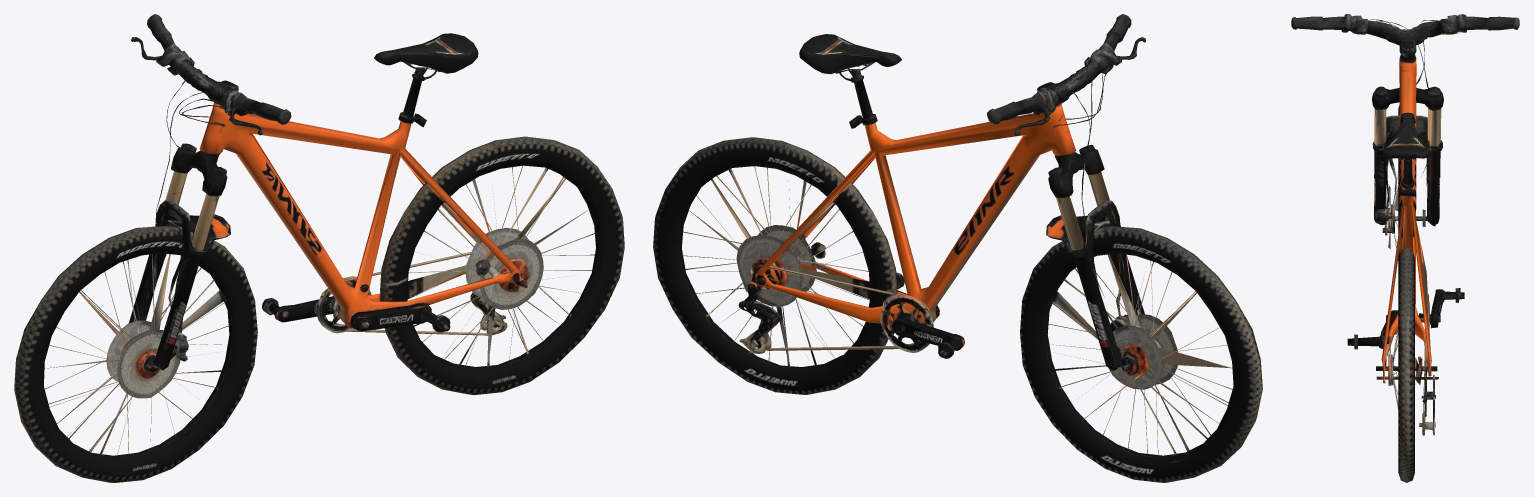
Rendered from bike-body.glb.
3 views of the same model, side by side, from view 1: azimuth 30°, elevation 25°; view 2: azimuth 150°, elevation 25°; view 3: azimuth 270°, elevation 25° (orthographic). The views are drawn at different scales.
Size of the model in its own units: 0.9575 by 0.5991 by 0.3658.
Materials: 1 (1 with a texture image).
